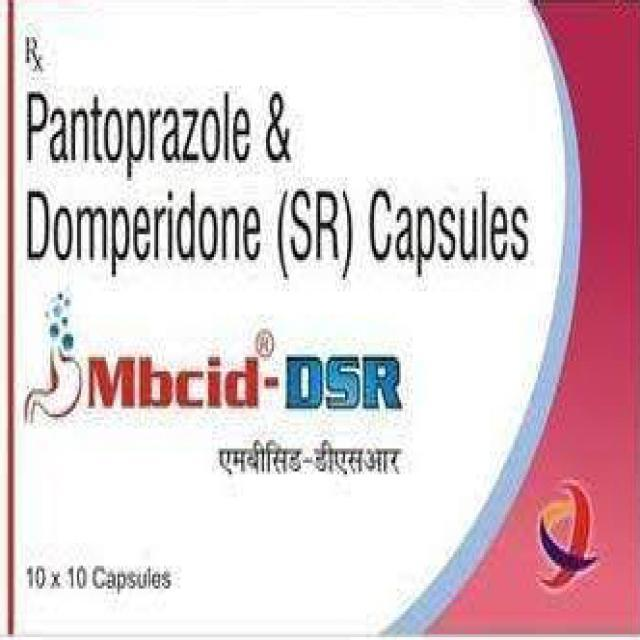drug-name: (86, 349, 404, 412)
